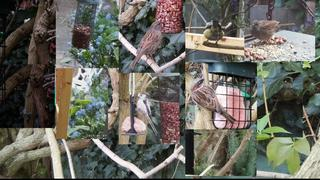blue tit: (203, 20, 224, 48)
dunnock: (129, 20, 165, 69), (250, 20, 295, 46)
long tailed tit: (134, 93, 160, 139)
sparrow: (190, 78, 237, 124)
